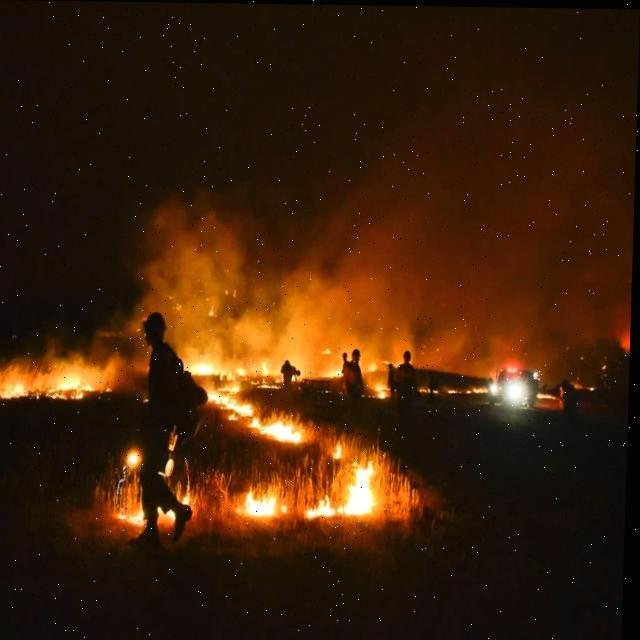Fire: (124, 341, 390, 525), (0, 362, 105, 401)
